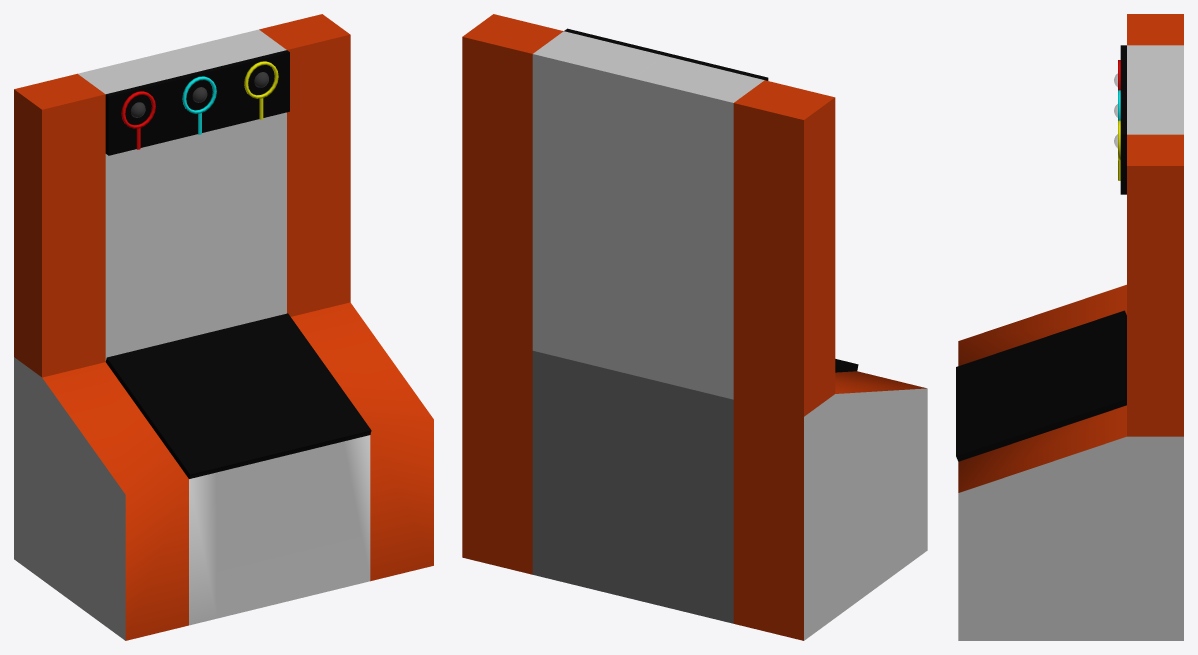
Rendered from Generator.fbx.
3 views of the same model, side by side, from view 1: azimuth 30°, elevation 25°; view 2: azimuth 150°, elevation 25°; view 3: azimuth 270°, elevation 25° (orthographic). The views are drawn at different scales.
Parts seen in each view (by area): view 1: Generator; view 2: Generator; view 3: Generator.
Part boxes in pixels (x1,y1,x2,y2): Generator: (14,14,433,640); Generator: (462,14,927,640); Generator: (956,14,1183,640).
Bounding box in the file's own units: 235 × 342 × 149.
